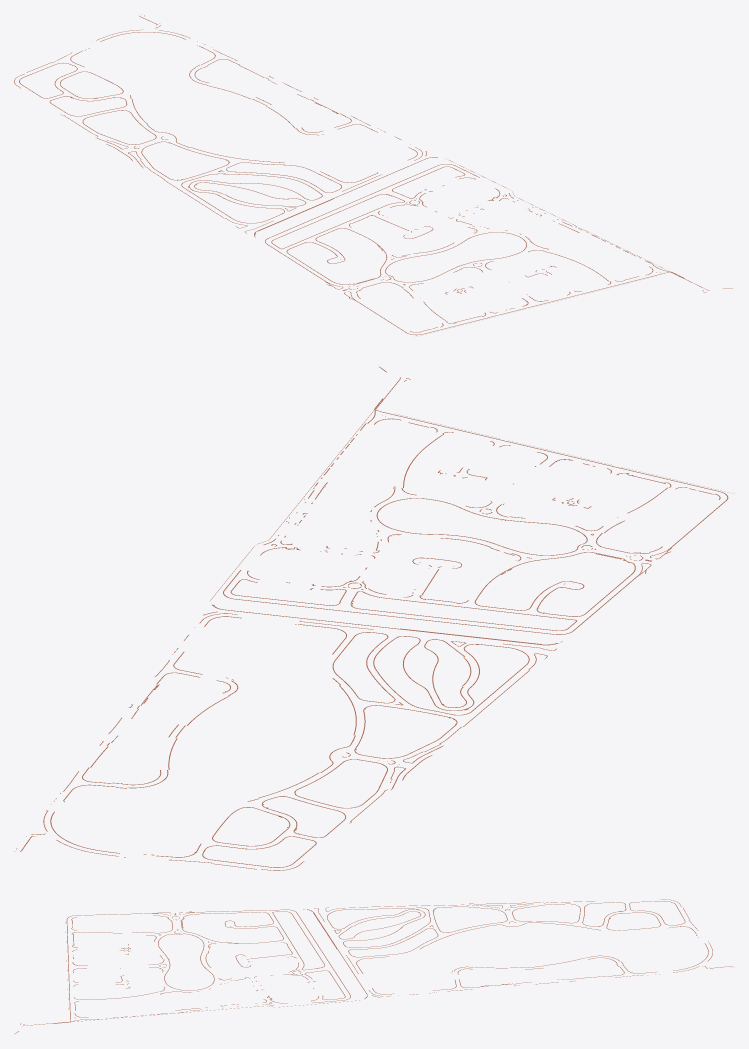
The model's file is ranches-full-sidewalk.glb.
3 views of the same model, one above another, from view 1: azimuth 30°, elevation 25°; view 2: azimuth 150°, elevation 25°; view 3: azimuth 270°, elevation 25° (orthographic). The views are drawn at different scales.
Visible parts, largest first — view 1: sandstone-walkway-top; view 2: sandstone-walkway-top, raised-sidewalk-walls; view 3: sandstone-walkway-top, raised-sidewalk-walls.
Part boxes in pixels (x1=…): sandstone-walkway-top: x1=14, y1=14, x2=732, y2=334; sandstone-walkway-top: x1=14, y1=366, x2=728, y2=870; raised-sidewalk-walls: x1=16, y1=381, x2=725, y2=870; sandstone-walkway-top: x1=14, y1=899, x2=734, y2=1034; raised-sidewalk-walls: x1=53, y1=901, x2=720, y2=1023.
Bounding box in the file's own units: 865 × 0.2546 × 1945.
2 materials, 1 textured.
